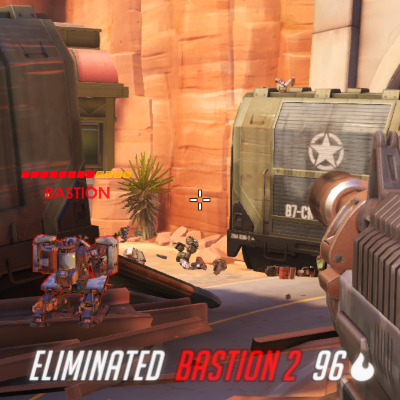hpbar: (20, 170, 132, 179)
